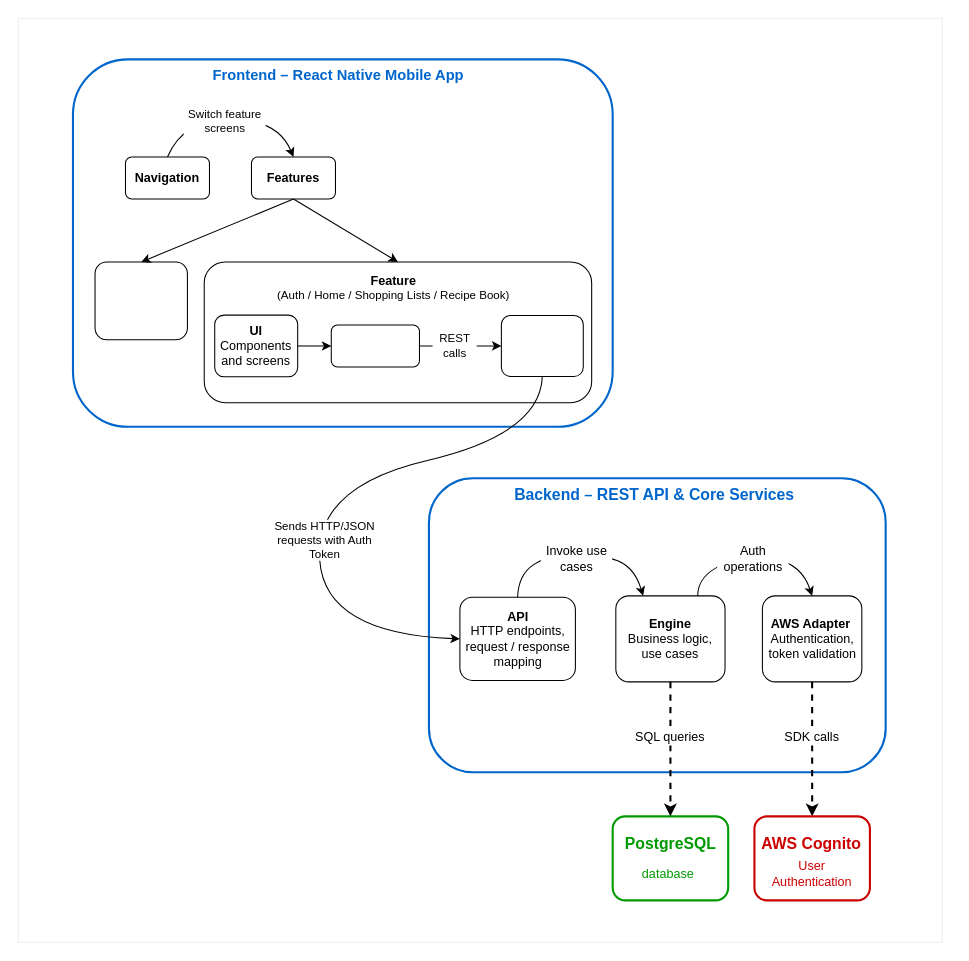
Some shapes in this 969 by 961 pixel diagram are drawn without their labels. Each missing label, with the box of its shape:
AP I Client Handles REST calls: (500, 314, 583, 376)
Screen logic: (330, 324, 419, 367)
Shared Reusable components and utilities: (94, 261, 187, 340)
